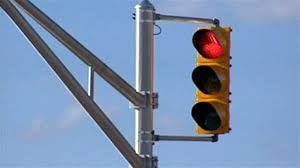traffic light: (181, 14, 241, 147)
